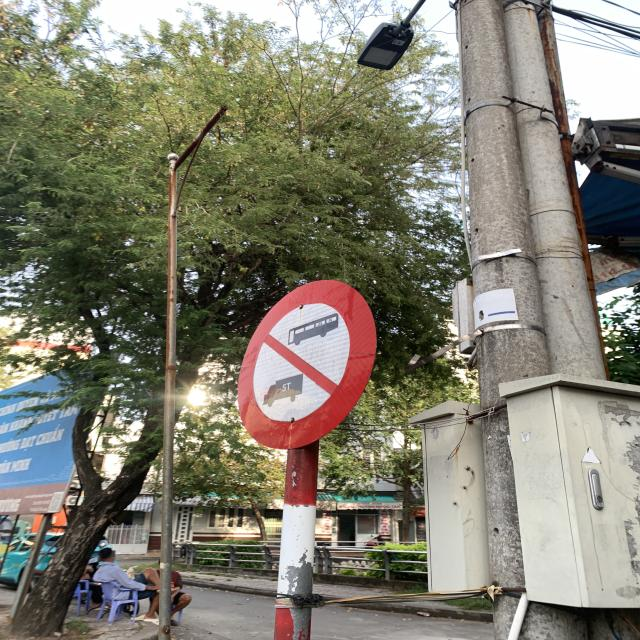Cam_XeTai_XeKhach: (234, 279, 378, 447)
